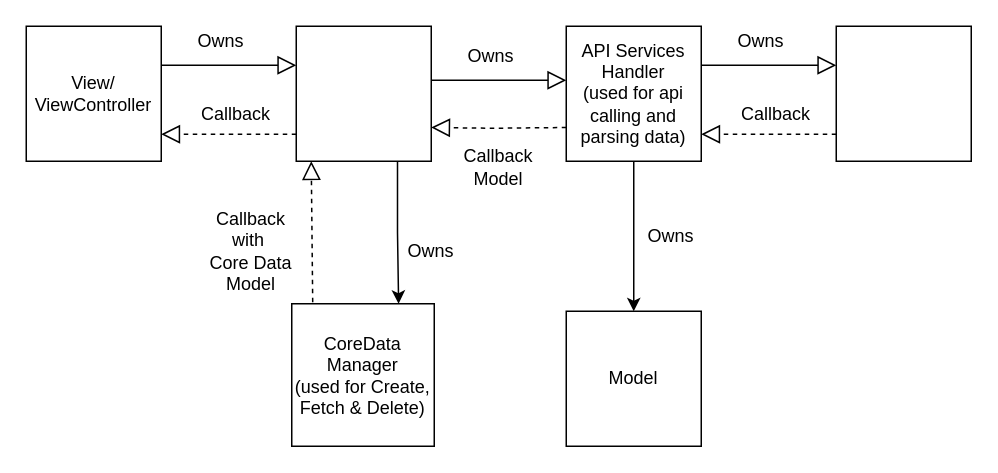
Image size: 998x473. Some labels were removed from this diagram. Here are the shapes that lost their labels. From the top down, the centre of each, then its label:
(x=363, y=93): ViewModel
(x=903, y=93): HTPP Client (Almofire)
